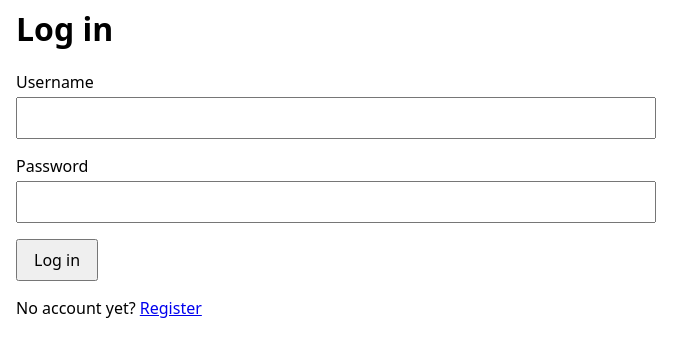
it: Login › shows an error for wrong credentials (400 from the API)
In the field labelled "Username": (336, 118) top-left (16, 97), bottom-right (656, 139), type "alice"
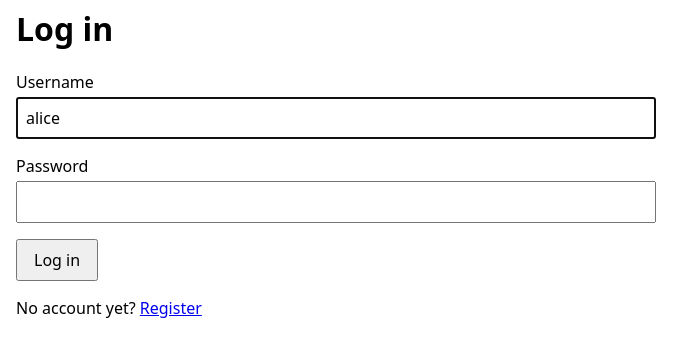
In the password field labelled "Password": (336, 202) top-left (16, 181), bottom-right (656, 223), type "wrong"
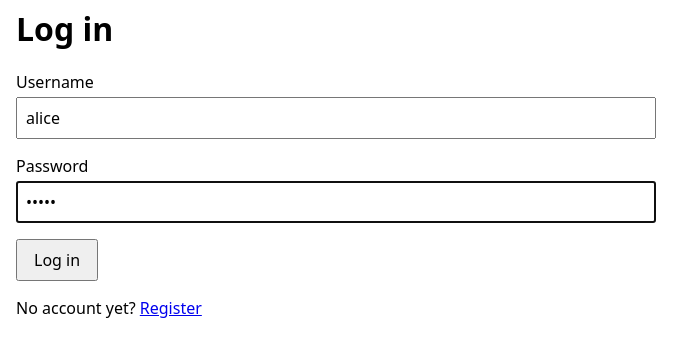
Click the button "Log in": (57, 260) top-left (16, 239), bottom-right (98, 281)
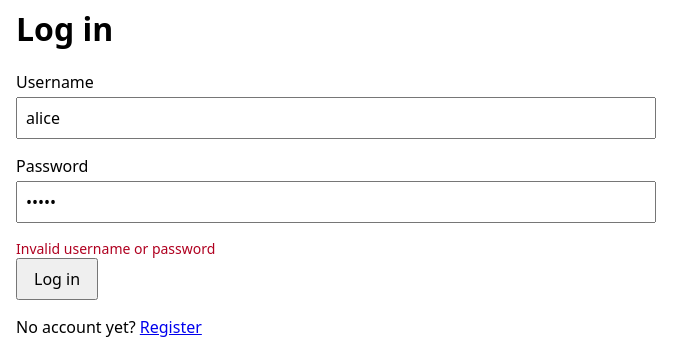
Now the message reads "Invalid username or password", box top-left (16, 239), bottom-right (215, 258)
